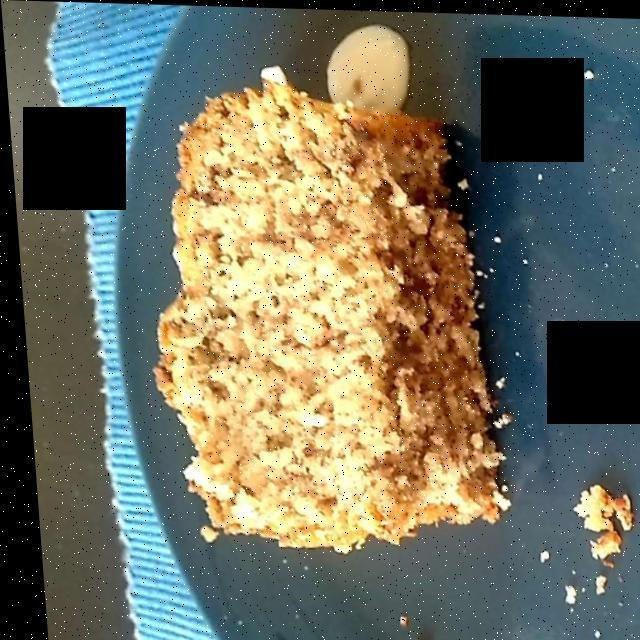cake: (153, 83, 497, 546)
